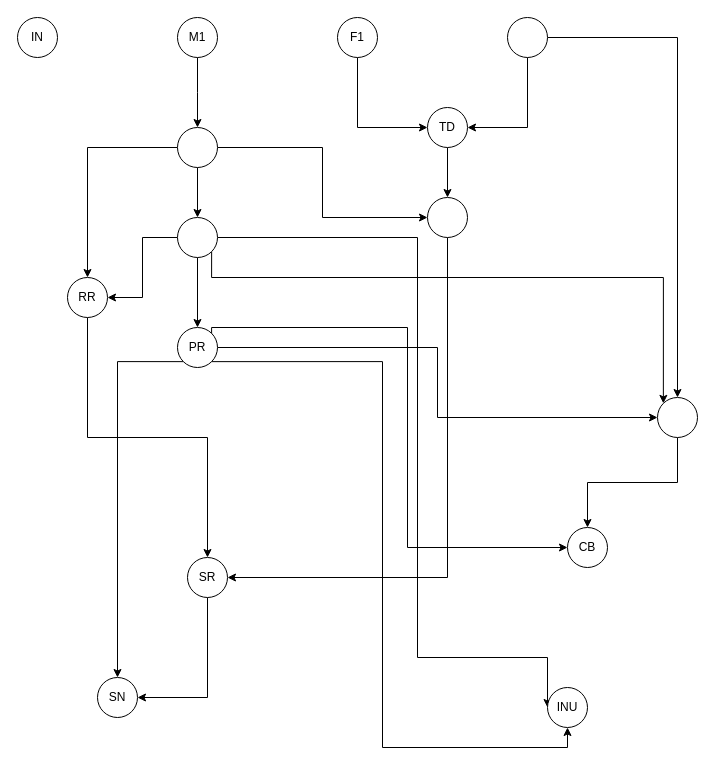
The diagram is 715 pixels wide and 773 high, and some of its shapes have lost their labels. The box of each missing label's shape, as (x1, y1, x2, y2) in pixels:
FN: (176, 216, 218, 258)
M2: (176, 126, 218, 168)
MF: (426, 196, 468, 238)
MIN: (656, 396, 698, 438)
QG: (506, 16, 548, 58)
